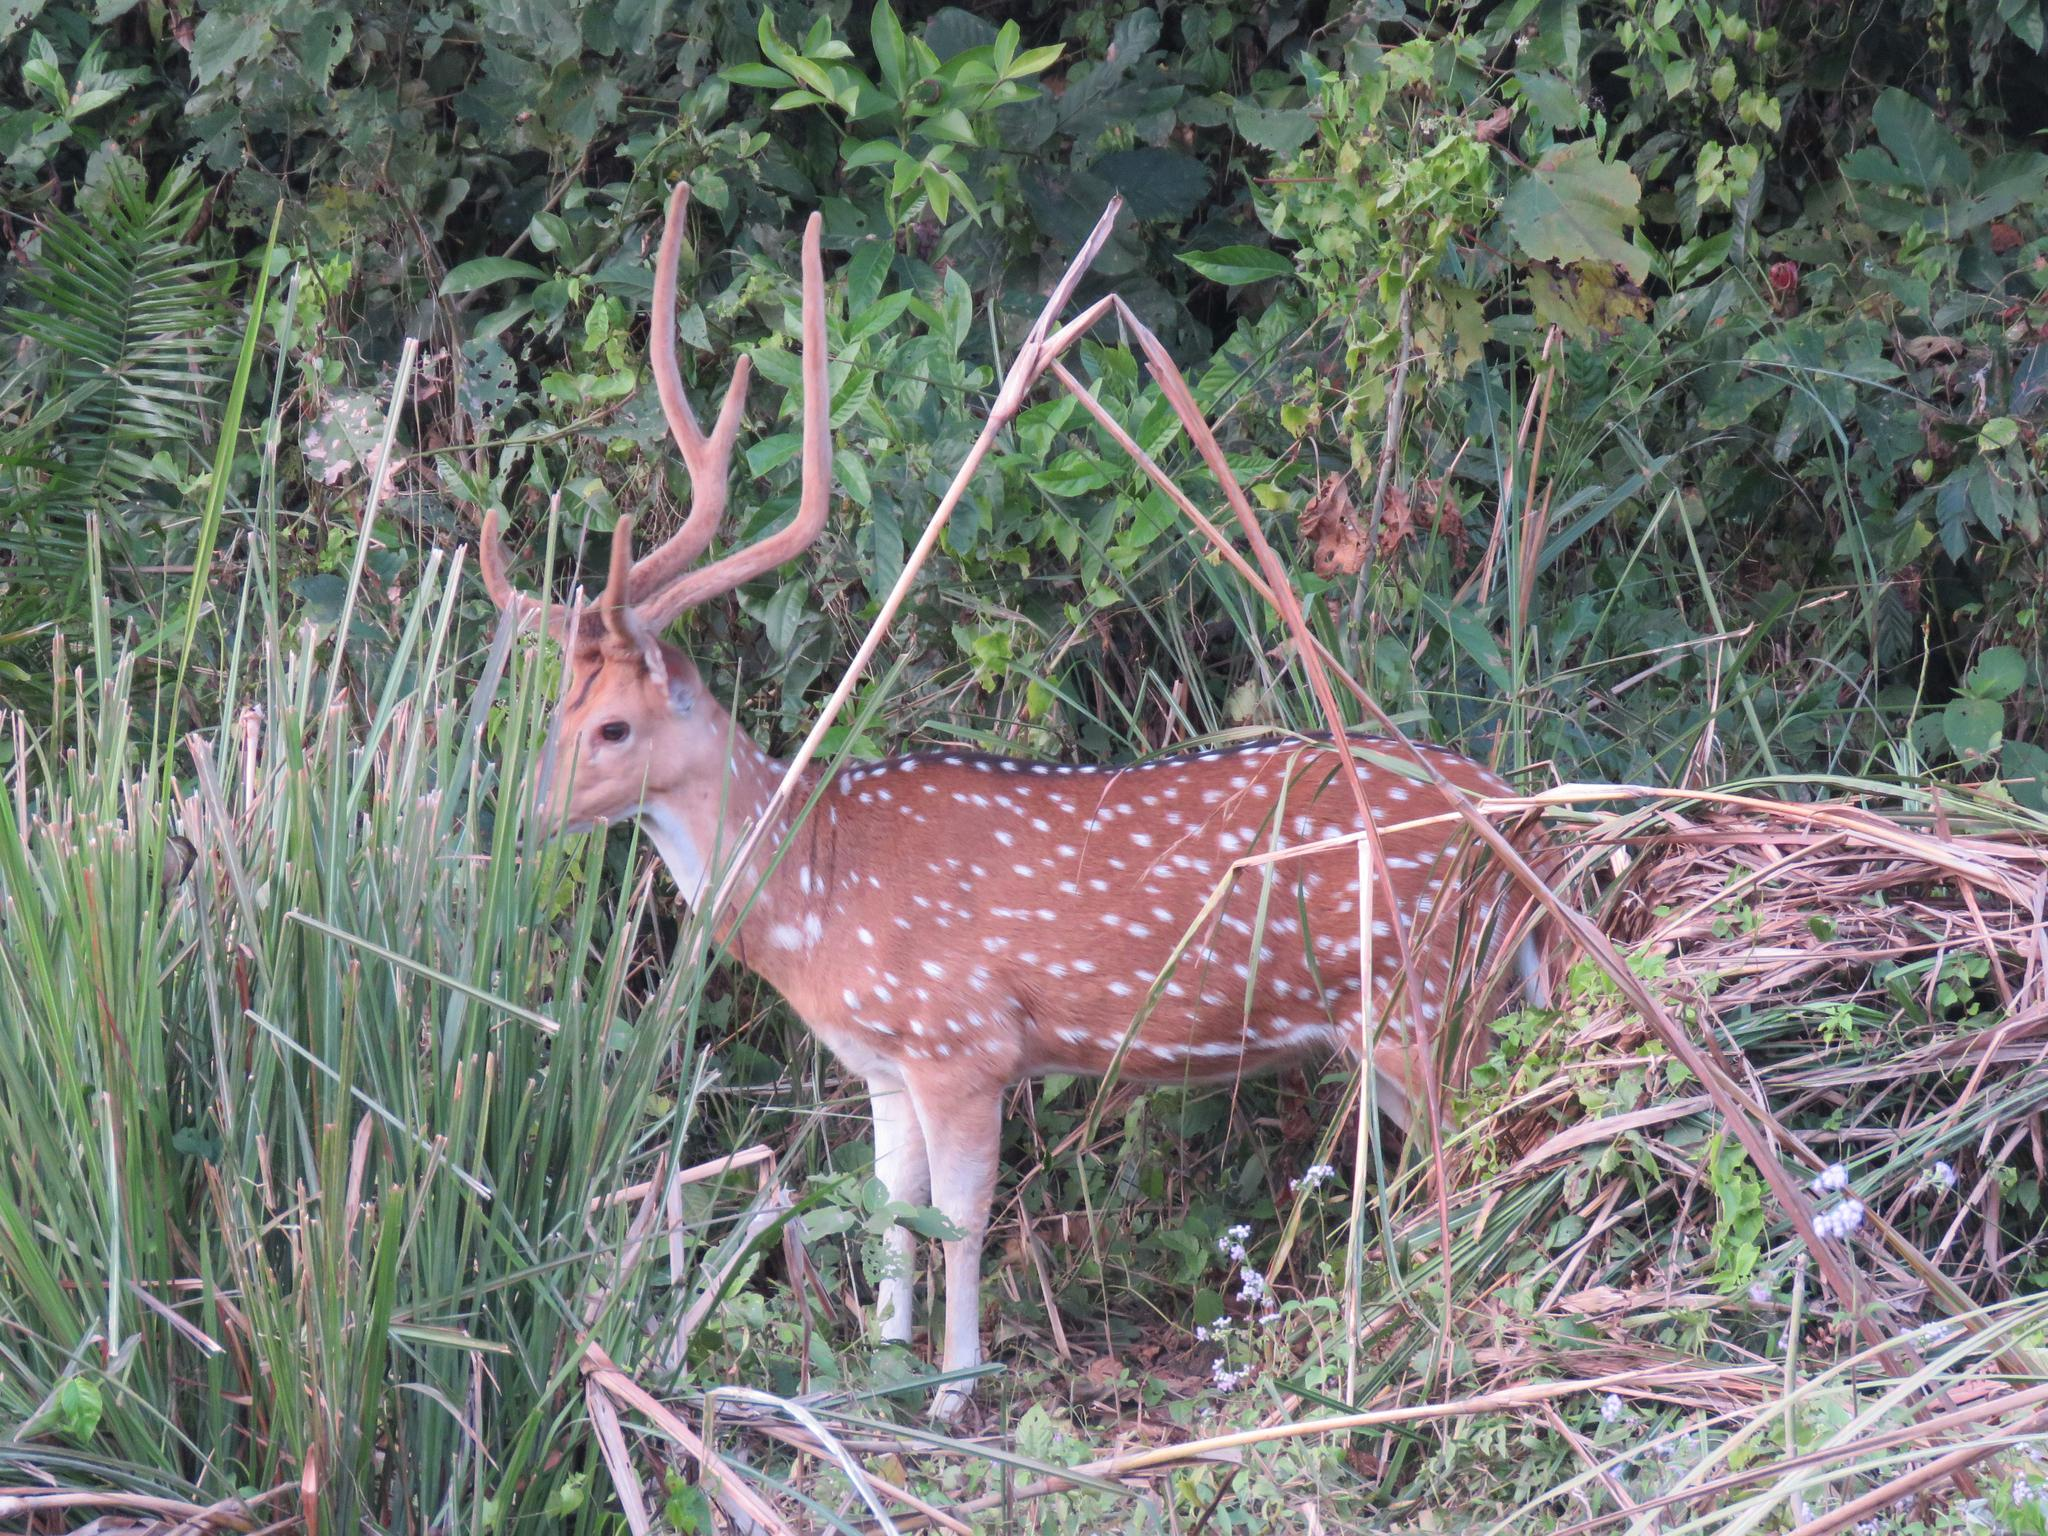Deer: (482, 182, 1505, 1370)
